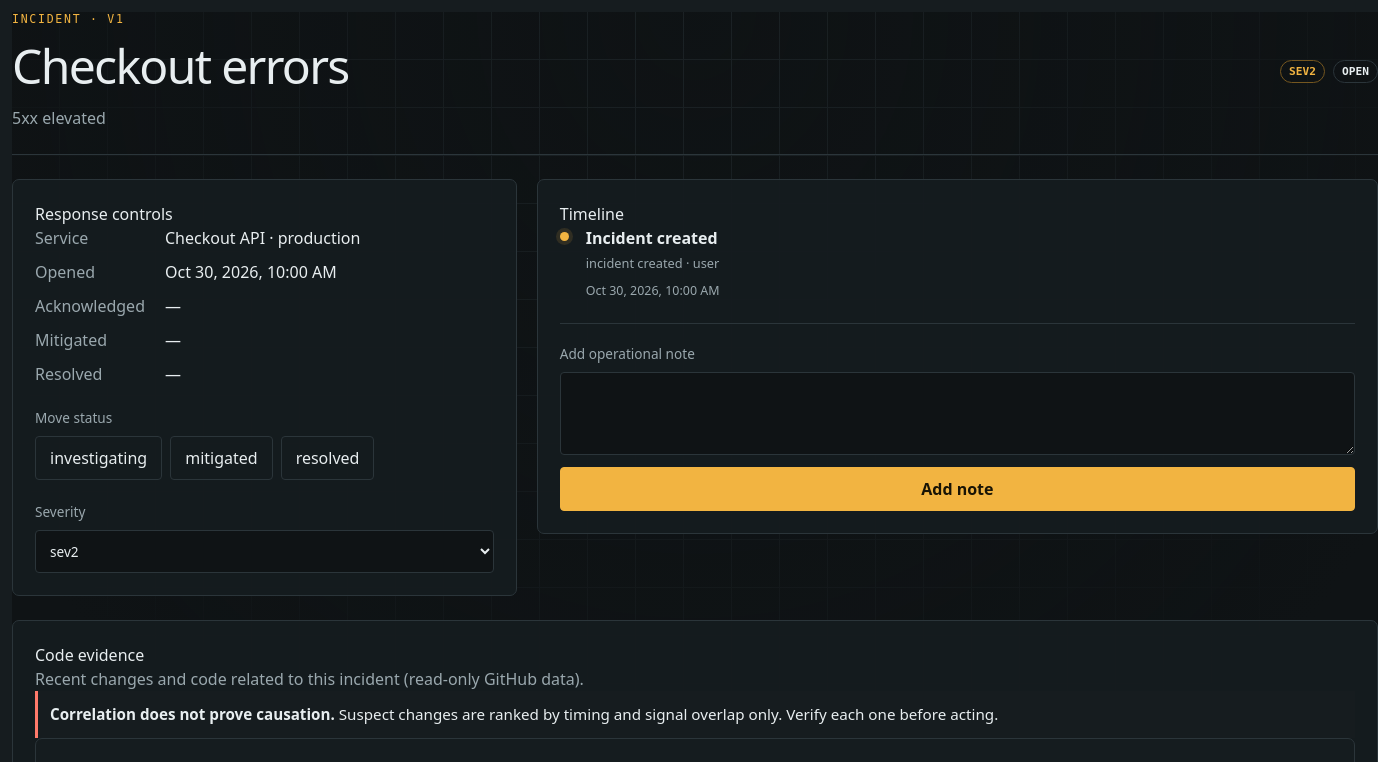
Test case: Module 1 operations UI › renders incident detail, timeline and reports a stale-version conflict
expect the heading "Checkout errors" is shown: met, box [12,30,349,102]
expect the text "Incident created" is shown: met, box [586,227,718,249]
Click the button "investigating" at (99, 458), box [35,436,162,480]
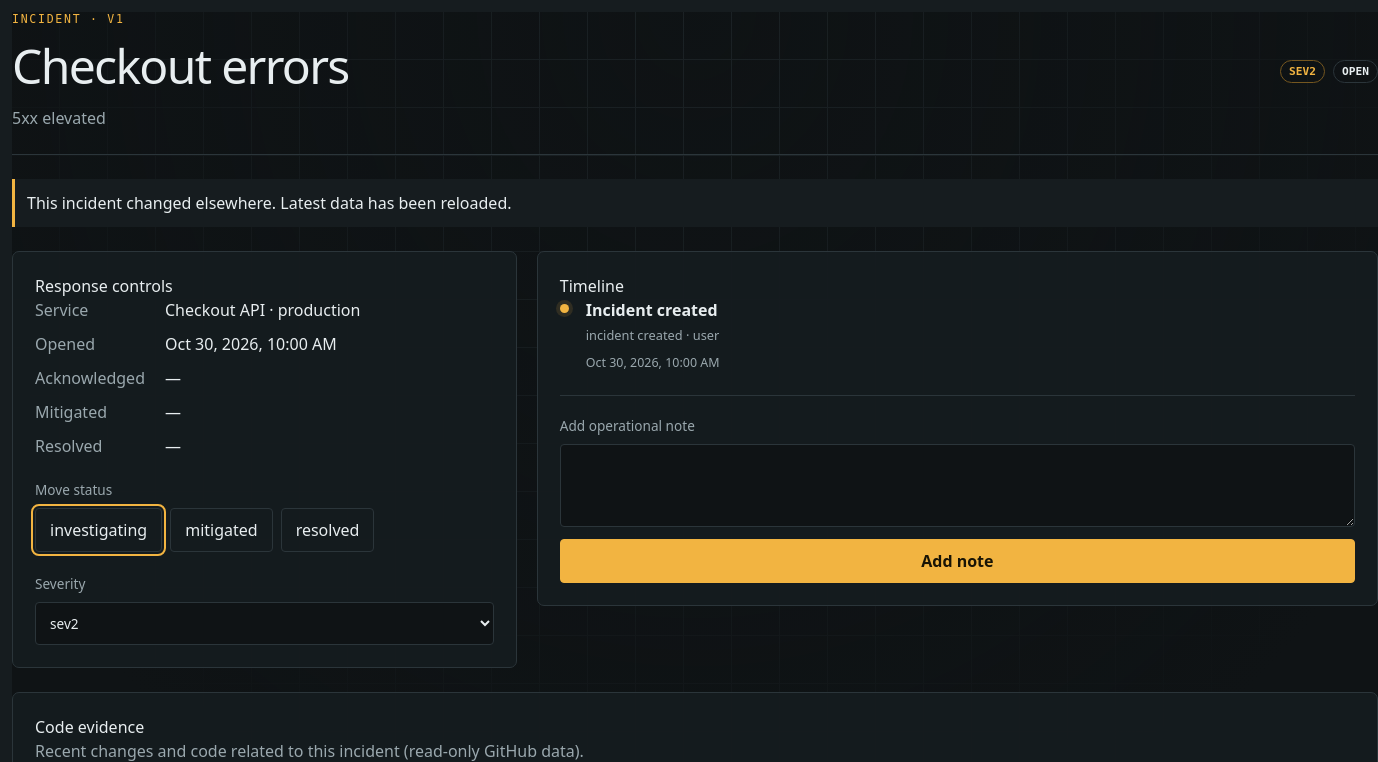
expect the text "This incident changed elsewhere. Latest data has been reloaded." is shown: met, box [12,179,1377,227]
